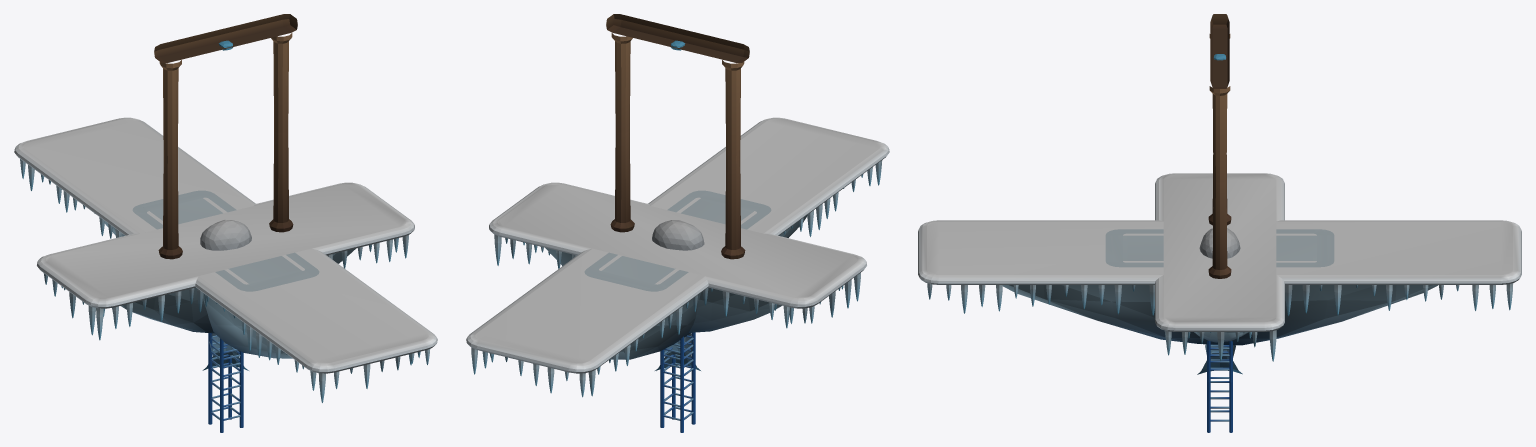
File: glacier-2-BZqbjIzZ.glb
3 renders of one model, left to right at view 1: azimuth 30°, elevation 25°; view 2: azimuth 150°, elevation 25°; view 3: azimuth 270°, elevation 25°, orthographic. The views are drawn at different scales.
Parts seen in each view (by area): view 1: block_10x2x43#1, block_26x2x9#0, pressFrame_7x6x4x7#0, block_7x2x16_ice#0, truss_14#0, boulder_4x3#0, block_7x2x17_ice#0, truss_10#0, support_1_round#0; view 2: block_10x2x43#1, block_26x2x9#0, pressFrame_7x6x4x7#0, block_7x2x16_ice#0, truss_14#0, boulder_4x3#0, block_7x2x17_ice#0, truss_10#0, support_1_round#0; view 3: block_10x2x43#1, block_26x2x9#0, pressFrame_7x6x4x7#0, block_7x2x16_ice#0, truss_14#0, block_7x2x17_ice#0, boulder_4x3#0.
Boxes of the visible parts, <box> form: block_10x2x43#1: <box>14,117,437,402</box>; block_26x2x9#0: <box>37,182,414,340</box>; pressFrame_7x6x4x7#0: <box>154,14,297,259</box>; block_7x2x16_ice#0: <box>136,193,315,288</box>; truss_14#0: <box>208,333,243,432</box>; boulder_4x3#0: <box>200,220,251,250</box>; block_7x2x17_ice#0: <box>132,190,319,291</box>; truss_10#0: <box>208,333,243,380</box>; support_1_round#0: <box>202,333,248,370</box>; block_10x2x43#1: <box>466,117,889,397</box>; block_26x2x9#0: <box>489,182,866,332</box>; pressFrame_7x6x4x7#0: <box>606,14,749,259</box>; block_7x2x16_ice#0: <box>588,193,767,288</box>; truss_14#0: <box>660,332,695,432</box>; boulder_4x3#0: <box>652,220,704,250</box>; block_7x2x17_ice#0: <box>584,190,771,291</box>; truss_10#0: <box>660,332,695,380</box>; support_1_round#0: <box>655,333,700,370</box>; block_10x2x43#1: <box>918,220,1521,345</box>; block_26x2x9#0: <box>1155,173,1284,361</box>; pressFrame_7x6x4x7#0: <box>1208,14,1231,278</box>; block_7x2x16_ice#0: <box>1112,229,1327,267</box>; truss_14#0: <box>1207,341,1232,432</box>; block_7x2x17_ice#0: <box>1105,229,1334,267</box>; boulder_4x3#0: <box>1199,228,1240,258</box>.
Size of the model in its own units: 26.36 by 30.3 by 43.36.
